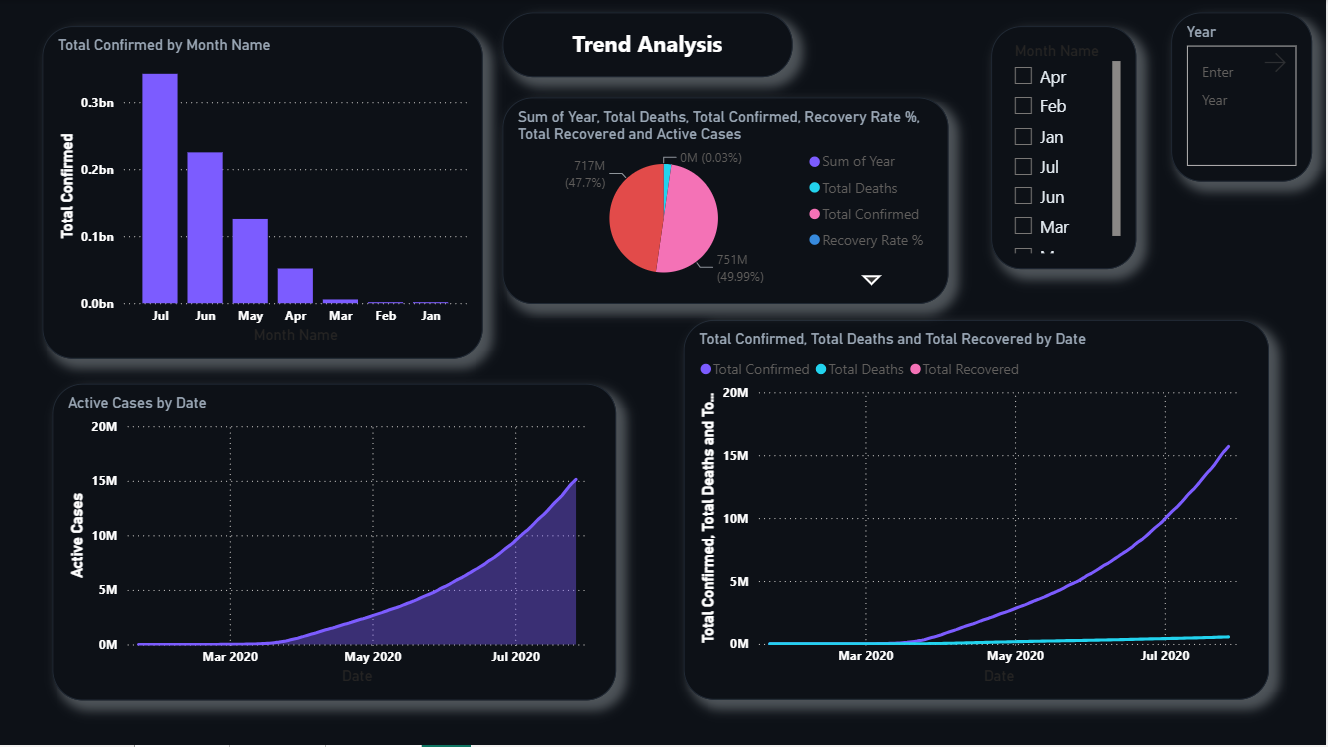

The dashboard page shown, as its layout file describes it:
{"tool":"powerbi","page":{"name":"Page 3","canvas":[1280,720],"ordinal":2},"visuals":[{"type":"textbox","box":[485,12.1,279.9,62.7],"z":0},{"type":"lineChart","fields":{"Category":["covid_19_clean_complete.Date"],"Y":["covid_19_clean_complete.Total Confirmed","covid_19_clean_complete.Total Deaths","covid_19_clean_complete.Total Recovered"]},"box":[659.9,308.8,564.6,366.8],"z":1000},{"type":"areaChart","fields":{"Category":["covid_19_clean_complete.Date"],"Y":["covid_19_clean_complete.Active Cases"]},"box":[50.7,370.4,544.1,305.2],"z":2000},{"type":"clusteredColumnChart","fields":{"Category":["Calendar.Month Name"],"Y":["covid_19_clean_complete.Total Confirmed"]},"box":[41,25.3,424.7,320.9],"z":3000},{"type":"textSlicer","fields":{"Values":["Calendar.Year"]},"box":[1130.4,12.1,136.3,162.9],"z":4000},{"type":"slicer","fields":{"Values":["Calendar.Month Name"]},"box":[956.7,25.3,139.9,234],"z":5000},{"type":"pieChart","fields":{"Y":["Sum(Calendar.Year)","covid_19_clean_complete.Total Deaths","covid_19_clean_complete.Total Confirmed","covid_19_clean_complete.Recovery Rate %","covid_19_clean_complete.Total Recovered","covid_19_clean_complete.Active Cases"]},"box":[485,94.1,430.7,199.1],"z":6000}]}

Visuals, with their boxes in screenshot pixels (x1, y1, x2, y2), scaled from the page's 1280x720 canvas onto the 1328x747 screenshot:
textbox: 503, 13, 794, 78
lineChart - covid_19_clean_complete.Date x covid_19_clean_complete.Total Confirmed: 685, 320, 1270, 701
areaChart - covid_19_clean_complete.Date x covid_19_clean_complete.Active Cases: 53, 384, 617, 701
clusteredColumnChart - Calendar.Month Name x covid_19_clean_complete.Total Confirmed: 43, 26, 483, 359
textSlicer - Calendar.Year: 1173, 13, 1314, 182
slicer - Calendar.Month Name: 993, 26, 1138, 269
pieChart - Sum(Calendar.Year) x covid_19_clean_complete.Total Deaths: 503, 98, 950, 304
